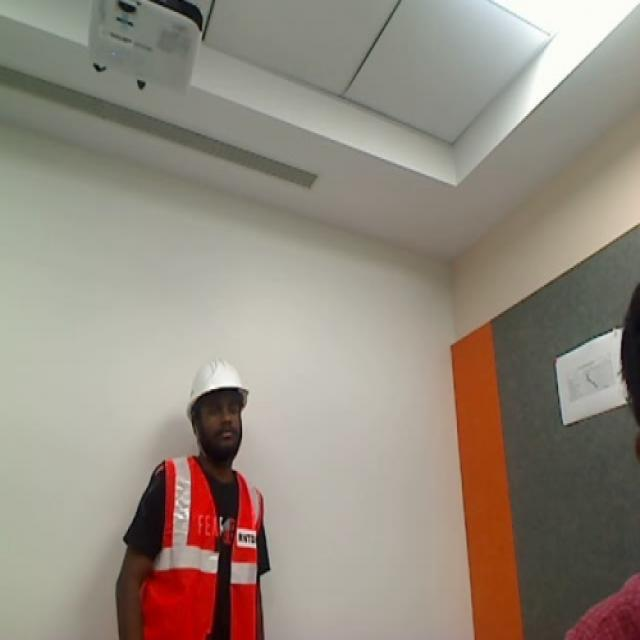safety_helmet: (138, 456, 268, 638)
